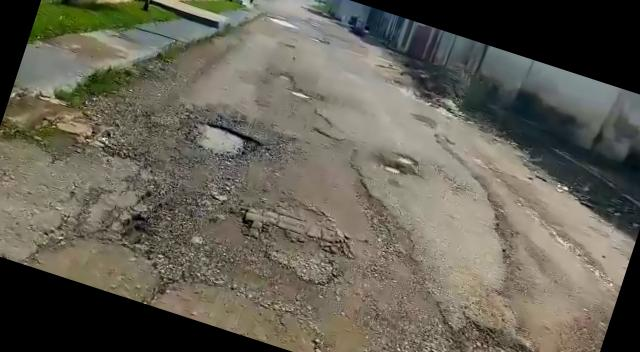pothole: (186, 116, 266, 170), (396, 154, 419, 168), (289, 88, 312, 102), (382, 164, 404, 178), (278, 72, 293, 84)
